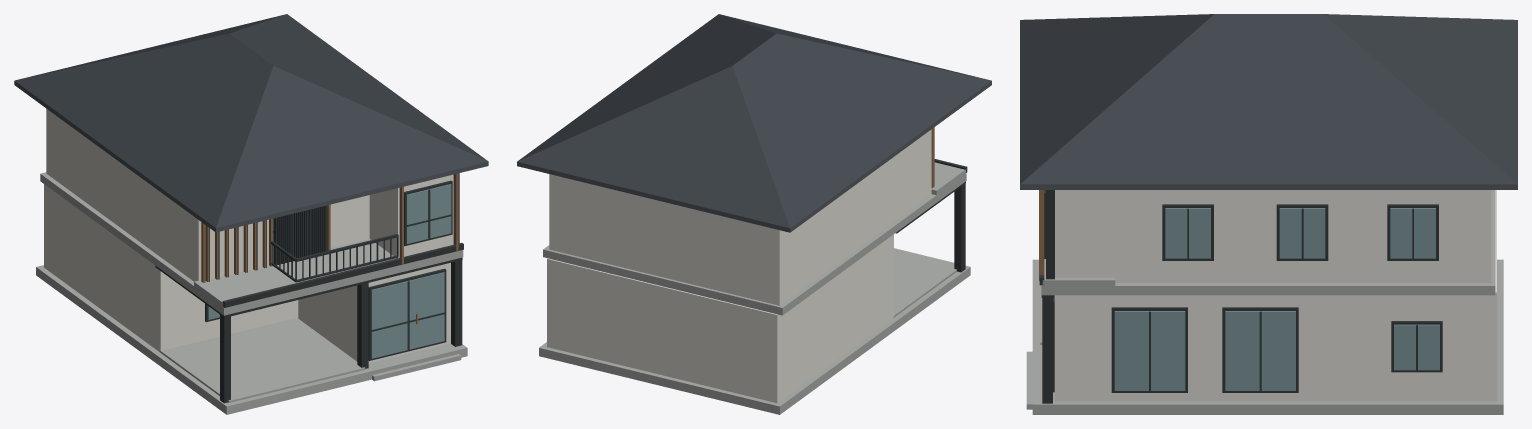
The model's file is two-storey-prototype.glb.
3 views of the same model, side by side, from view 1: azimuth 30°, elevation 25°; view 2: azimuth 150°, elevation 25°; view 3: azimuth 270°, elevation 25° (orthographic). The views are drawn at different scales.
Visible parts, largest first — view 1: roof_main_roof, walls_ground_wall, base_slab, walls_upper_wall, finishing_glass, floor_upper_slab, structure_frame, balcony_slab, walls_upper_front_right_wall, roof_main_fascia, finishing_frame, upper_screen_dark (+7 smaller); view 2: roof_main_roof, walls_ground_wall, walls_upper_wall, base_slab, floor_upper_slab, roof_main_fascia, structure_frame, balcony_slab; view 3: roof_main_roof, walls_ground_wall, walls_upper_wall, finishing_glass, base_slab, floor_upper_slab, finishing_frame, walls_upper_front_right_wall, roof_main_fascia, structure_frame, balcony_slab, upper_screen_wood.
Part boxes in pixels (x1,y1,x2,y2): roof_main_roof: (14,14,488,227); walls_ground_wall: (44,184,450,362); base_slab: (36,265,467,414); walls_upper_wall: (46,109,369,281); finishing_glass: (208,184,451,358); floor_upper_slab: (40,172,463,315); structure_frame: (155,173,462,403); balcony_slab: (194,239,396,307); walls_upper_front_right_wall: (369,174,453,258); roof_main_fascia: (14,81,488,232); finishing_frame: (205,180,452,360); upper_screen_dark: (276,206,325,264); roof_main_roof: (517,14,991,228); walls_ground_wall: (547,234,893,402); walls_upper_wall: (549,129,931,305); base_slab: (539,248,970,414); floor_upper_slab: (543,173,966,315); roof_main_fascia: (517,81,991,232); structure_frame: (895,181,965,272); balcony_slab: (931,162,965,195); roof_main_roof: (1020,14,1517,184); walls_ground_wall: (1054,190,1496,401); walls_upper_wall: (1115,190,1491,282); finishing_glass: (1114,208,1439,390); base_slab: (1026,259,1503,414); floor_upper_slab: (1041,190,1495,295); finishing_frame: (1044,190,1442,392); walls_upper_front_right_wall: (1055,190,1115,282); roof_main_fascia: (1020,184,1517,189); structure_frame: (1041,190,1054,403); balcony_slab: (1042,259,1115,287); upper_screen_wood: (1039,190,1044,280).
Bounding box in the file's own units: 10.2 × 9.5 × 13.05.
